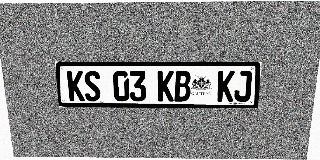0: (112, 71, 130, 101)
3: (129, 71, 146, 101)
B: (174, 71, 191, 102)
J: (234, 71, 252, 102)
K: (217, 71, 235, 102), (67, 71, 85, 101), (157, 71, 174, 101)
S: (83, 71, 101, 101)
